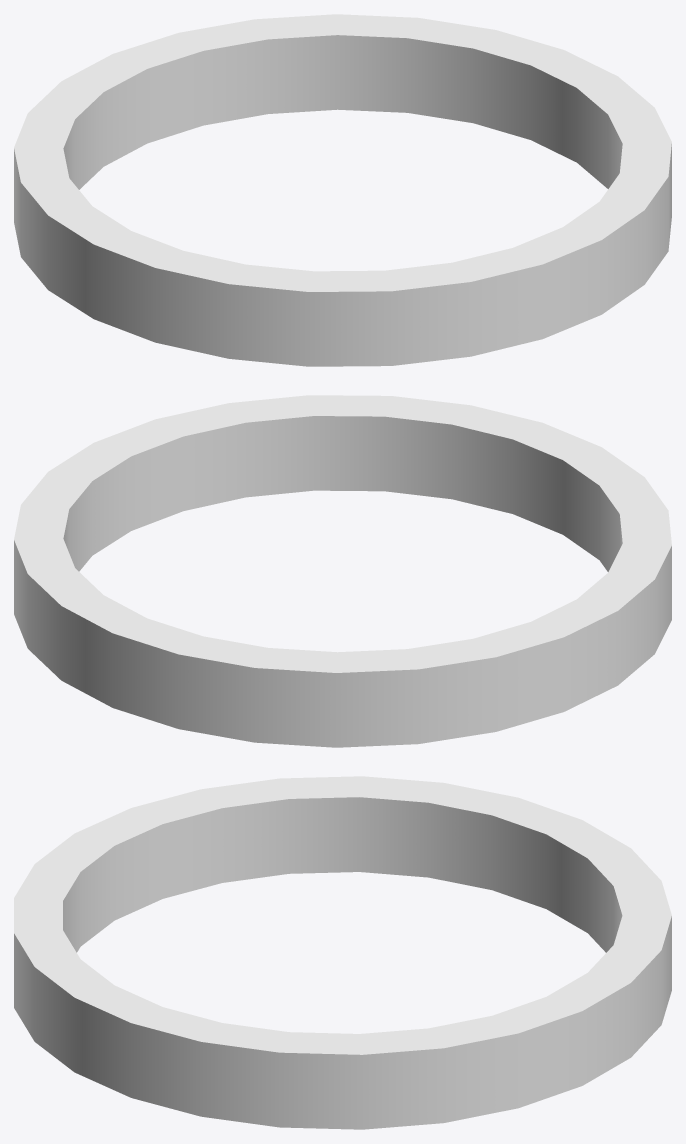
File: unitcreate_building_water.FBX
3 views of the same model, one above another, from view 1: azimuth 30°, elevation 25°; view 2: azimuth 150°, elevation 25°; view 3: azimuth 270°, elevation 25° (orthographic).
Visible parts, largest first — view 1: Tube001; view 2: Tube001; view 3: Tube001.
Boxes of the visible parts, <box> form: Tube001: <box>14,14,671,366</box>; Tube001: <box>14,395,671,747</box>; Tube001: <box>14,776,671,1129</box>.
Size of the model in its own units: 39.92 by 5 by 39.84.
Materials: 1 (1 with a texture image).
